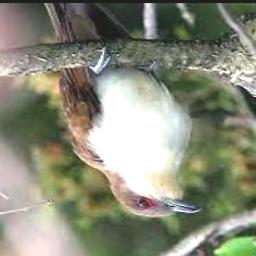Cuckoo: (44, 4, 202, 217)
